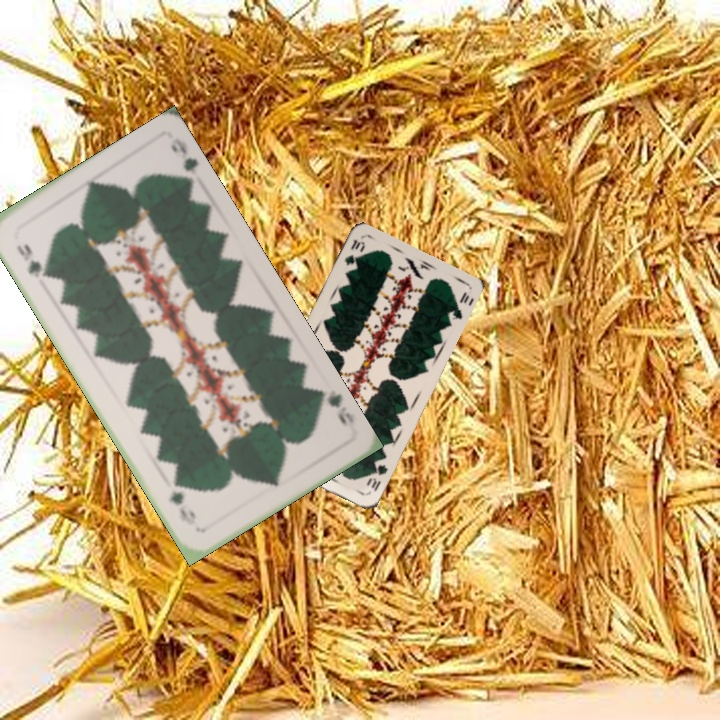G10: (362, 455, 390, 495), (340, 235, 367, 268)
G9: (314, 386, 357, 429), (12, 239, 52, 281)
